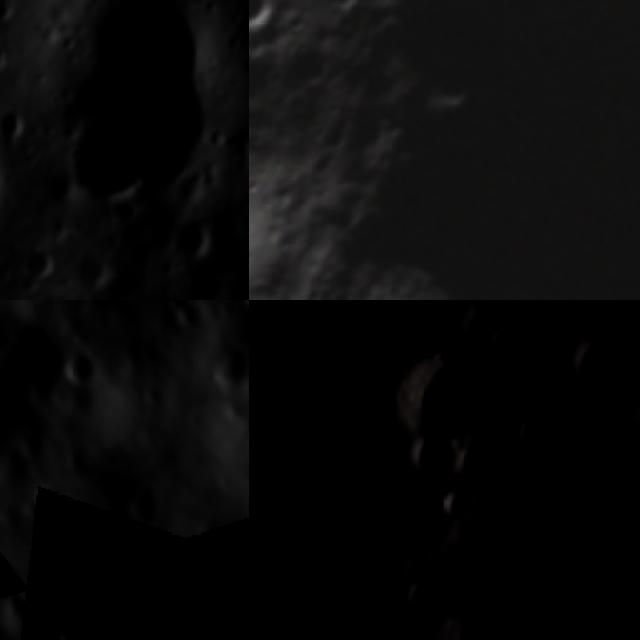crater: (68, 0, 228, 216), (374, 314, 518, 462), (0, 300, 91, 508), (483, 300, 612, 390), (547, 316, 631, 406), (388, 551, 473, 637), (249, 530, 329, 621), (346, 507, 429, 592), (419, 587, 542, 640), (444, 416, 520, 494), (396, 419, 472, 496), (273, 31, 345, 103), (503, 395, 569, 463), (0, 570, 63, 640), (445, 300, 513, 358), (536, 444, 596, 503), (429, 472, 486, 530), (371, 412, 428, 470), (86, 544, 139, 602), (265, 482, 317, 536), (60, 342, 110, 397), (118, 482, 167, 536), (458, 300, 572, 323), (320, 325, 370, 376), (283, 591, 335, 640), (554, 406, 601, 456), (95, 597, 148, 640), (214, 335, 249, 392), (249, 0, 290, 47), (171, 220, 214, 264), (565, 482, 608, 525), (616, 381, 640, 452), (314, 0, 374, 27), (0, 315, 27, 364), (78, 253, 115, 288), (331, 300, 387, 323), (23, 246, 62, 276), (249, 300, 288, 321), (312, 630, 363, 640)
